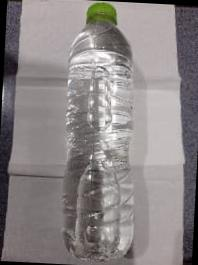Plastik: (61, 2, 133, 259)
